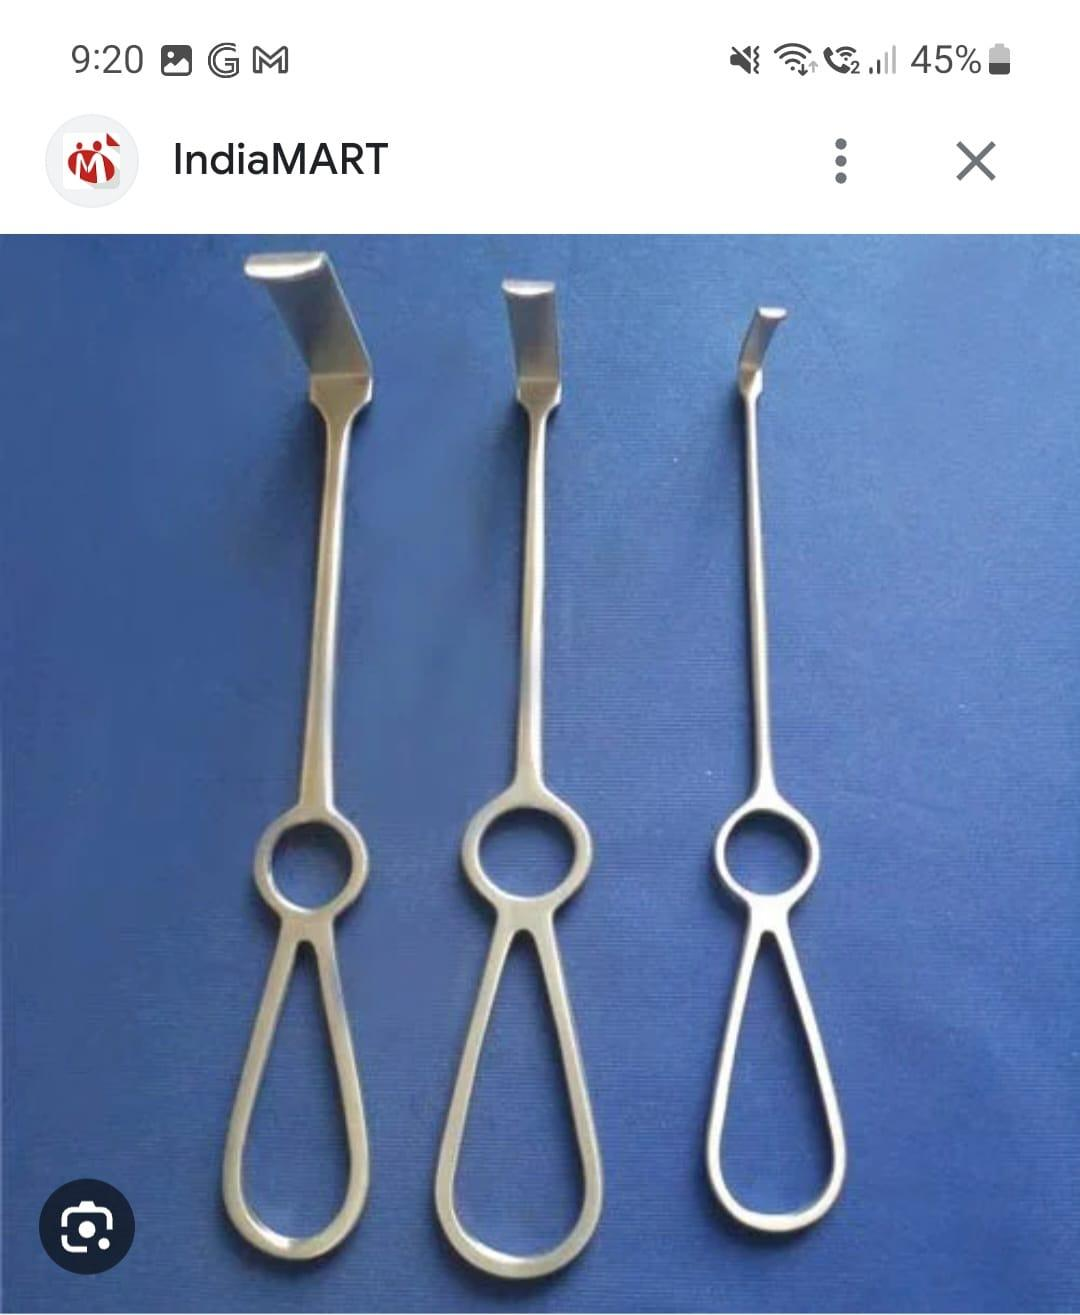Langenbach Retractor: (440, 262, 612, 1290), (218, 240, 385, 1261)
